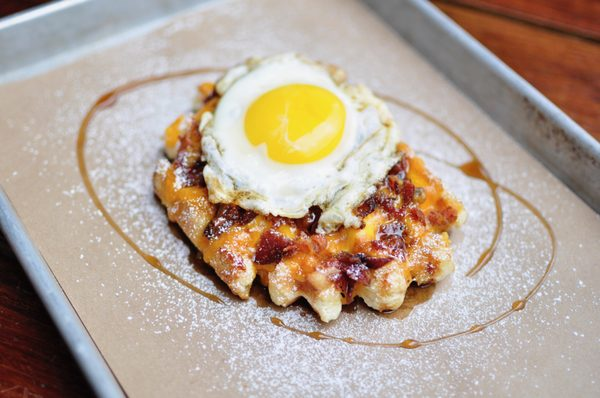sandwich: (367, 3, 599, 223)
